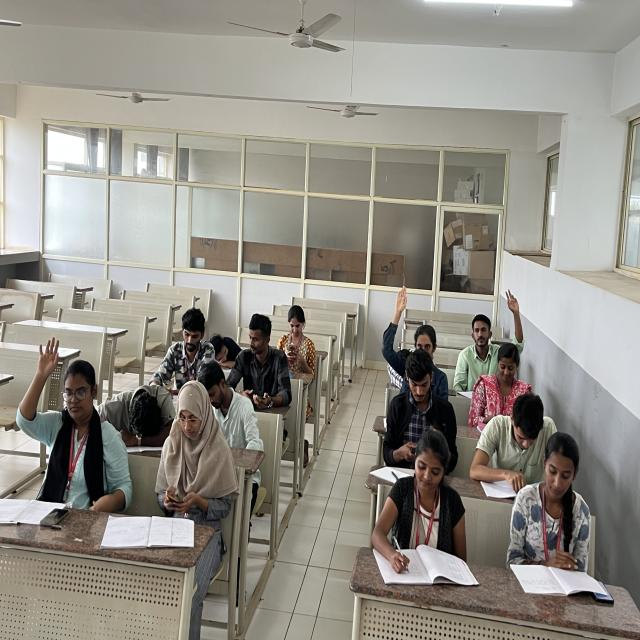Hand Rising: (16, 330, 137, 520), (452, 283, 524, 371), (382, 281, 451, 371)
Reading: (503, 432, 617, 607), (464, 382, 562, 505)
Sleeping: (102, 381, 174, 465), (207, 321, 246, 378)
Using Phone: (146, 374, 240, 537), (385, 342, 456, 478), (470, 340, 536, 431), (231, 312, 290, 413), (279, 300, 321, 386)
Writing: (368, 426, 476, 586), (147, 305, 221, 402)
